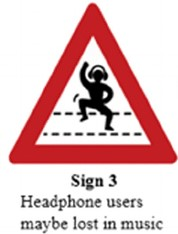Traffic signal: (9, 3, 178, 165)
